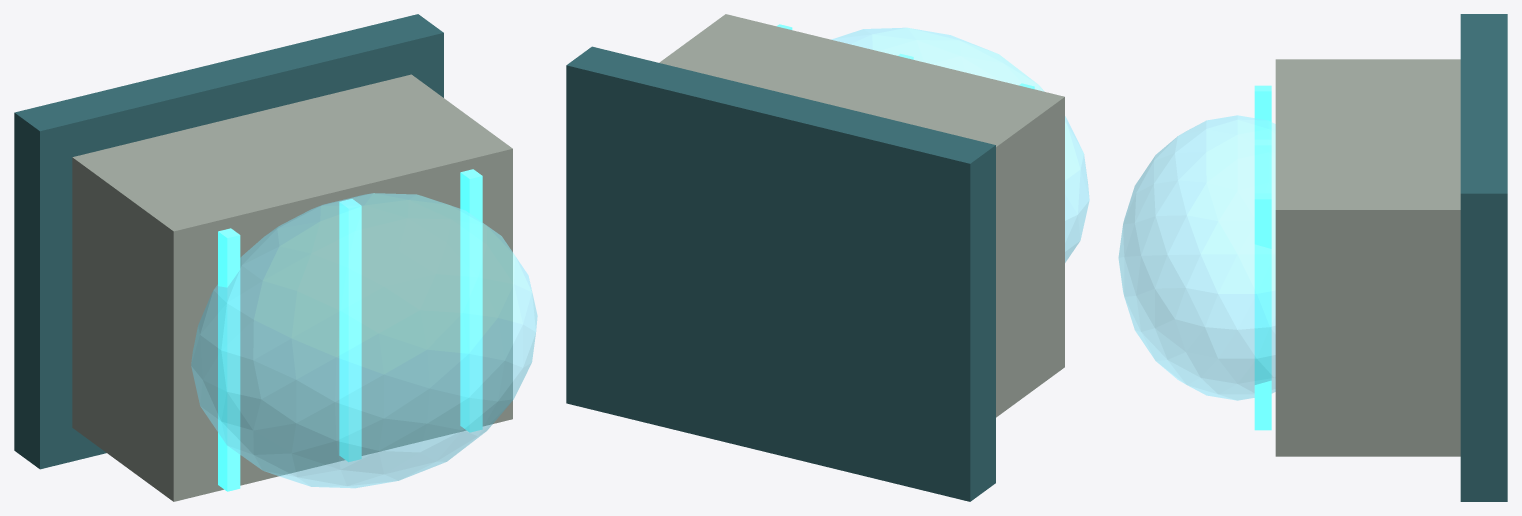
The model's file is 06_Submerged_Archive.glb.
3 renders of one model, left to right at view 1: azimuth 30°, elevation 25°; view 2: azimuth 150°, elevation 25°; view 3: azimuth 270°, elevation 25°, orthographic. The views are drawn at different scales.
Visible parts, largest first — view 1: 06_Submerged_Archive_01, 06_Submerged_Archive_02, 06_Submerged_Archive_00, 06_Submerged_Archive_05, 06_Submerged_Archive_03, 06_Submerged_Archive_04; view 2: 06_Submerged_Archive_00, 06_Submerged_Archive_01, 06_Submerged_Archive_02; view 3: 06_Submerged_Archive_01, 06_Submerged_Archive_02, 06_Submerged_Archive_00, 06_Submerged_Archive_05, 06_Submerged_Archive_03, 06_Submerged_Archive_04.
Boxes of the visible parts, x1,y1,x2,y2 form: 06_Submerged_Archive_01: (72, 74, 512, 501); 06_Submerged_Archive_02: (191, 193, 537, 488); 06_Submerged_Archive_00: (14, 14, 443, 469); 06_Submerged_Archive_05: (460, 169, 482, 432); 06_Submerged_Archive_03: (218, 228, 240, 491); 06_Submerged_Archive_04: (339, 199, 361, 461); 06_Submerged_Archive_00: (566, 46, 995, 501); 06_Submerged_Archive_01: (659, 14, 1064, 417); 06_Submerged_Archive_02: (831, 27, 1089, 262); 06_Submerged_Archive_01: (1275, 59, 1460, 456); 06_Submerged_Archive_02: (1118, 115, 1275, 400); 06_Submerged_Archive_00: (1460, 14, 1507, 501); 06_Submerged_Archive_05: (1254, 193, 1271, 430); 06_Submerged_Archive_03: (1254, 85, 1271, 139); 06_Submerged_Archive_04: (1254, 139, 1271, 193).
Bounding box in the file's own units: 5 × 4 × 4.57.
